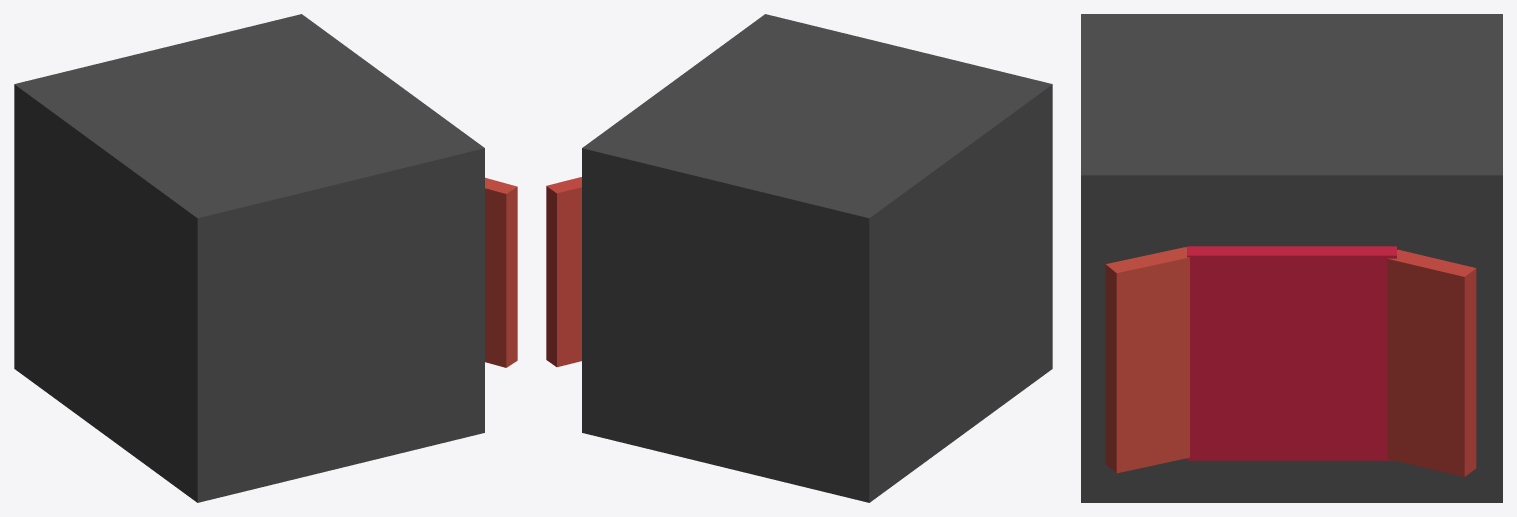
The model's file is basic_furnace.dae.
The picture shows the model from 3 angles, left to right: view 1: azimuth 30°, elevation 25°; view 2: azimuth 150°, elevation 25°; view 3: azimuth 270°, elevation 25°; orthographic projection. The views are drawn at different scales.
Parts seen in each view (by area): view 1: Cube_001, Cube_002; view 2: Cube_001, Cube; view 3: Cube_001, Cube_000, Cube, Cube_002.
Part boxes in pixels (box(x1,y1,x2,y2)): Cube_001: box(14, 14, 484, 502); Cube_002: box(485, 177, 517, 367); Cube_001: box(582, 14, 1052, 502); Cube: box(546, 177, 581, 367); Cube_001: box(1081, 14, 1502, 502); Cube_000: box(1187, 246, 1396, 460); Cube: box(1387, 249, 1476, 476); Cube_002: box(1105, 247, 1189, 473).
Size of the model in its own units: 3.43 by 3.21 by 2.75.
